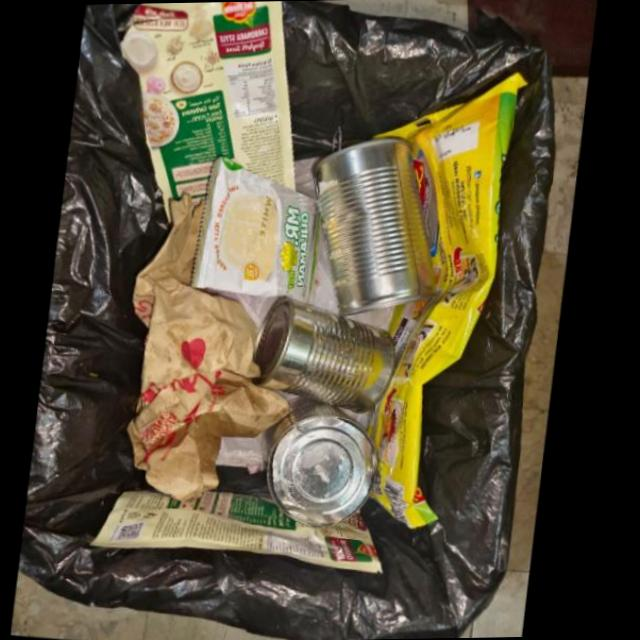bao_bi_thuc_pham: (370, 75, 525, 530), (120, 1, 295, 208), (91, 491, 383, 574)
giay: (127, 194, 291, 502)
goi_nhua_nho: (192, 158, 321, 305)
nhom: (313, 141, 436, 316), (251, 297, 395, 415), (262, 399, 378, 528)
